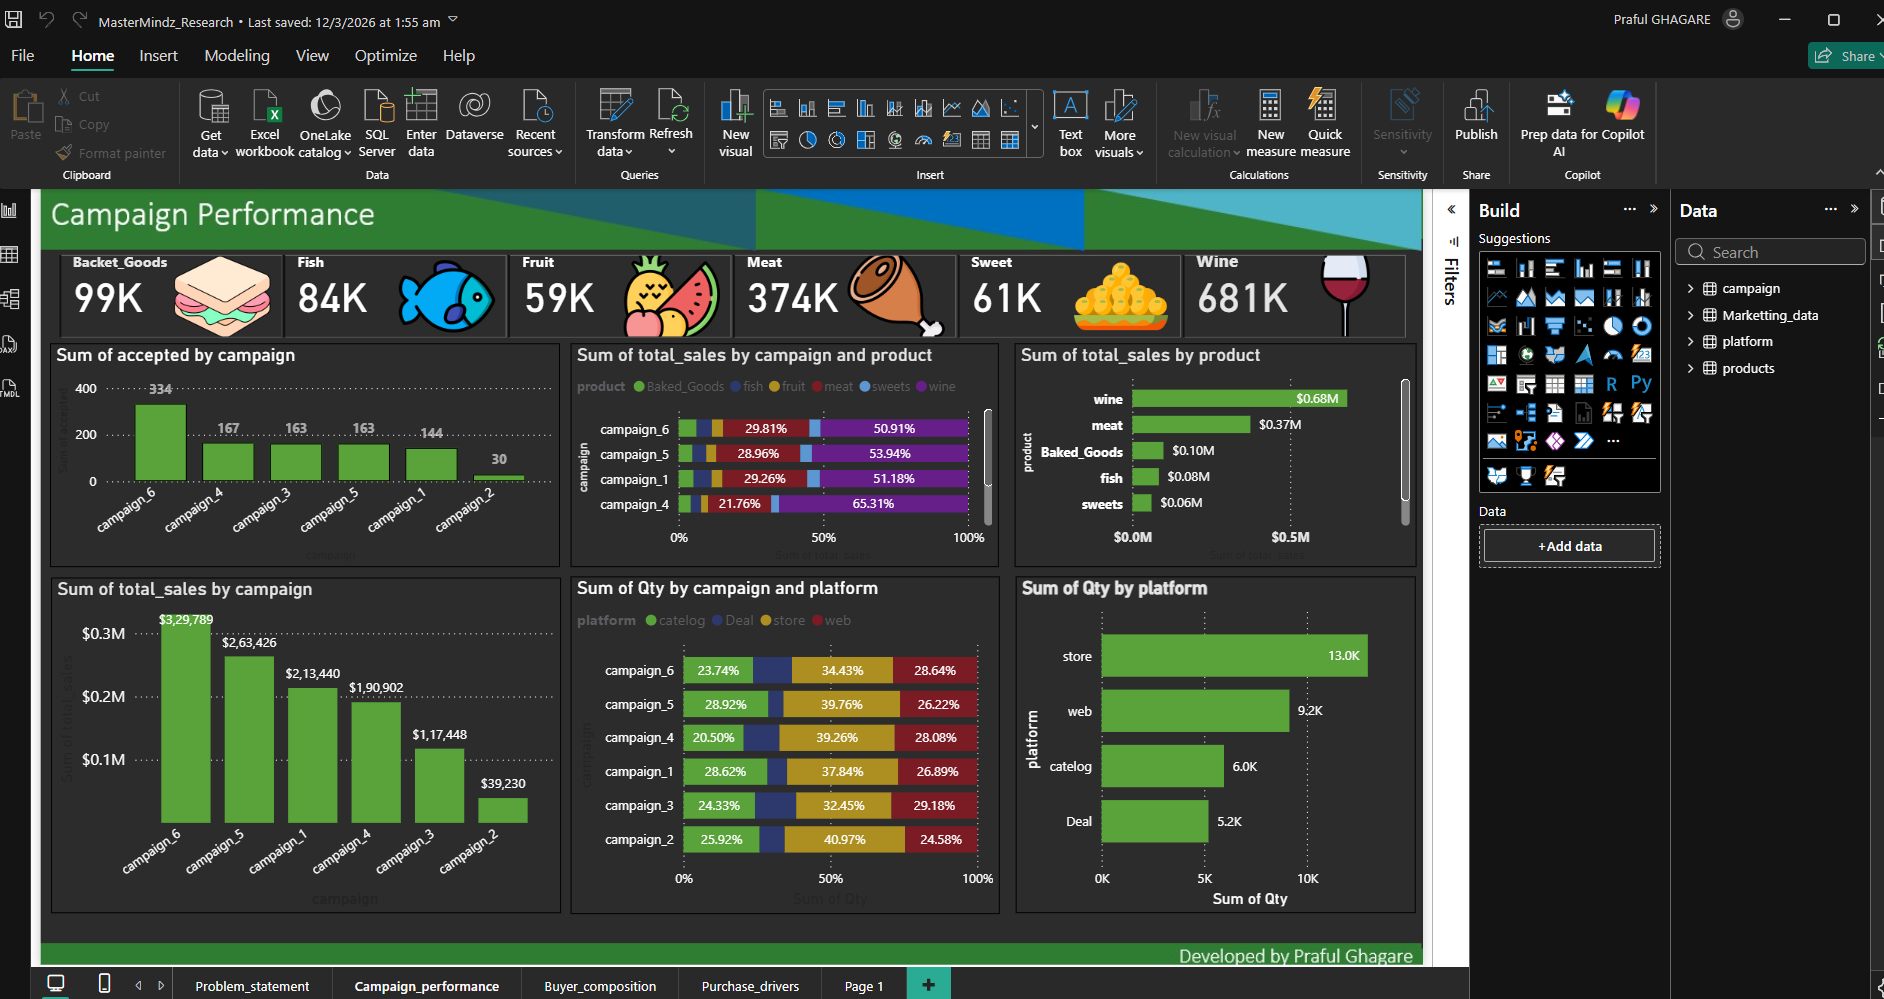

The page's visual inventory and layout, read from the dashboard file:
{"tool":"powerbi","page":{"name":"Campaign_performance","canvas":[1280,720],"ordinal":1},"visuals":[{"type":"clusteredColumnChart","fields":{"Category":["campaign.campaign"],"Y":["Sum(campaign.accepted)"]},"box":[9.5,143.2,472.3,207.2],"z":0},{"type":"clusteredColumnChart","fields":{"Y":["Sum(products.total_sales)"],"Category":["campaign.campaign"]},"box":[10.3,359.9,471.7,311],"z":1000},{"type":"hundredPercentStackedBarChart","fields":{"Y":["Sum(products.total_sales)"],"Category":["campaign.campaign"],"Series":["products.product"]},"box":[491.3,143.2,396.6,207.2],"z":2000},{"type":"clusteredBarChart","fields":{"Category":["products.product"],"Y":["Sum(products.total_sales)"]},"box":[902.1,143.2,371.7,207.2],"z":3000},{"type":"hundredPercentStackedBarChart","fields":{"Category":["campaign.campaign"],"Y":["Sum(platform.Qty)"],"Series":["platform.platform"]},"box":[491,358.6,397.1,312.3],"z":4000},{"type":"clusteredBarChart","fields":{"Category":["platform.platform"],"Y":["Sum(platform.Qty)"]},"box":[903.3,358.7,370.5,311.3],"z":5000},{"type":"cardVisual","fields":{"Data":["Sum(Marketting_data.Amount_baked_product)","Sum(Marketting_data.Amount_fish_amount)","Sum(Marketting_data.Amount_fruit_Product)","Sum(Marketting_data.Amount_meat_Product)","Sum(Marketting_data.Amount_sweets_product)","Sum(Marketting_data.Amount_wine_product)"]},"box":[11.8,55.6,1261.9,87.6],"z":6000}]}

Visuals, with their boxes on the page's 1280x720 design canvas (x1, y1, x2, y2). These are canvas units, not pixel positions in the 1884x999 screenshot, which may show the page scaled, cropped or inside an application window:
clusteredColumnChart - campaign.campaign x Sum(campaign.accepted): x1=10, y1=143, x2=482, y2=350
clusteredColumnChart - Sum(products.total_sales) x campaign.campaign: x1=10, y1=360, x2=482, y2=671
hundredPercentStackedBarChart - Sum(products.total_sales) x campaign.campaign: x1=491, y1=143, x2=888, y2=350
clusteredBarChart - products.product x Sum(products.total_sales): x1=902, y1=143, x2=1274, y2=350
hundredPercentStackedBarChart - campaign.campaign x Sum(platform.Qty): x1=491, y1=359, x2=888, y2=671
clusteredBarChart - platform.platform x Sum(platform.Qty): x1=903, y1=359, x2=1274, y2=670
cardVisual - Sum(Marketting_data.Amount_baked_product) x Sum(Marketting_data.Amount_fish_amount): x1=12, y1=56, x2=1274, y2=143
